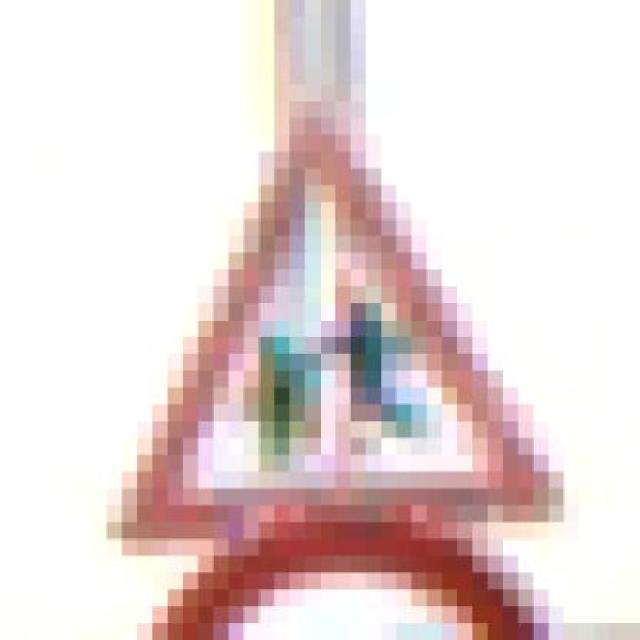Beware of children: (61, 118, 594, 556)
